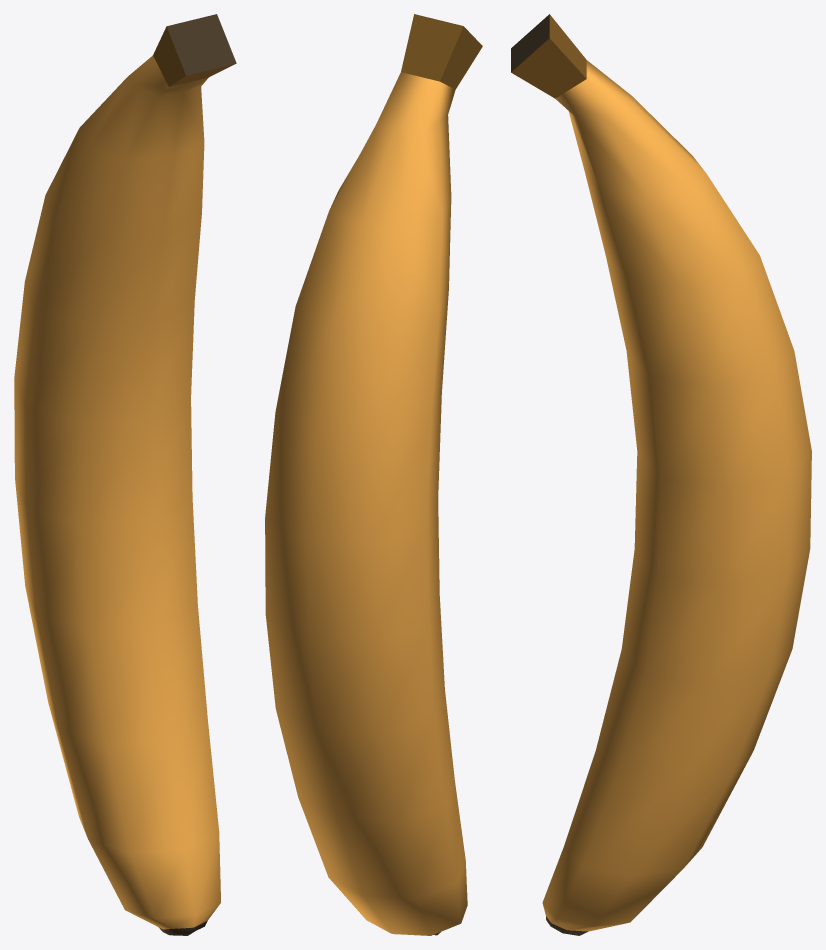
The model's file is Fruit_Banana.fbx.
The picture shows the model from 3 angles, left to right: view 1: azimuth 30°, elevation 25°; view 2: azimuth 150°, elevation 25°; view 3: azimuth 270°, elevation 25°; orthographic projection. The views are drawn at different scales.
Visible parts, largest first — view 1: Fruit_Banana; view 2: Fruit_Banana; view 3: Fruit_Banana.
Part boxes in pixels (<box>): Fruit_Banana: <box>14,14,236,935</box>; Fruit_Banana: <box>265,14,482,935</box>; Fruit_Banana: <box>511,14,811,935</box>.
Size of the model in its own units: 4.51 by 25.63 by 7.72.
